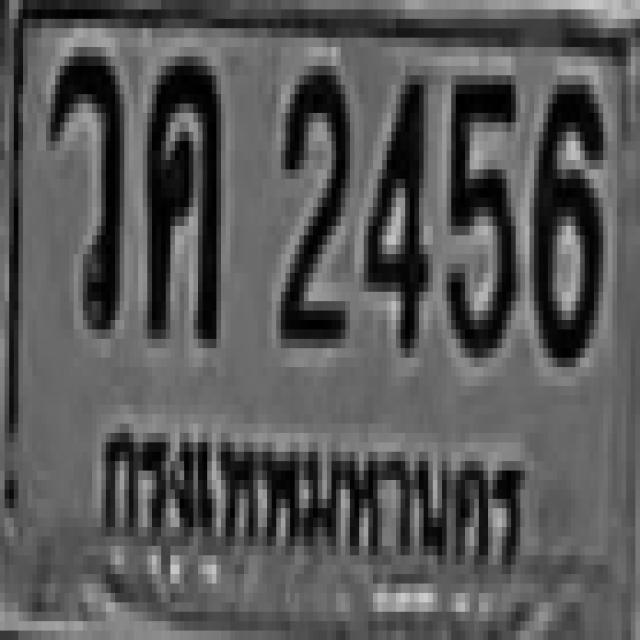13KhorKhwai: (143, 47, 216, 329)
2: (276, 56, 346, 339)
4: (359, 66, 424, 348)
46WorWaen: (46, 42, 120, 325)
5: (442, 66, 511, 348)
6: (530, 75, 598, 358)
Bangkok: (90, 414, 531, 602)
